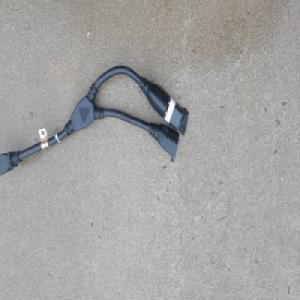Wire: (0, 63, 189, 178)
